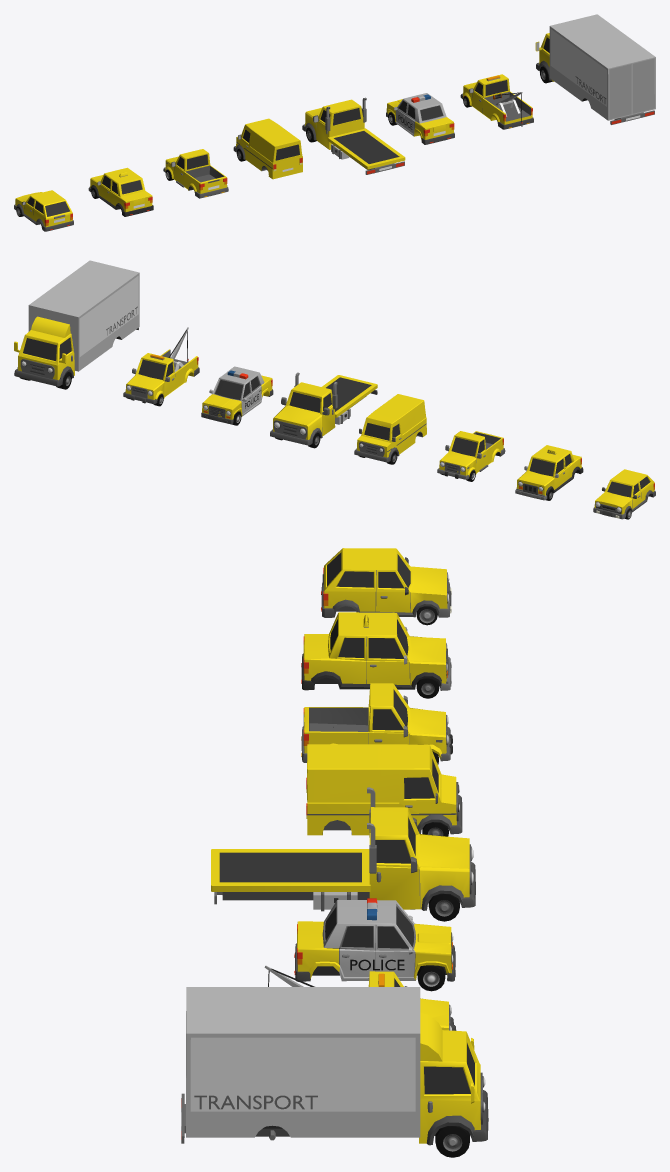
File: Cars.fbx
3 views of the same model, one above another, from view 1: azimuth 30°, elevation 25°; view 2: azimuth 150°, elevation 25°; view 3: azimuth 270°, elevation 25° (orthographic). The views are drawn at different scales.
Parts seen in each view (by area): view 1: VanBig, Truck 1, Van 1, Towtruck 1, Police 1, Car 2, Car 3, Car 1; view 2: VanBig, Truck 1, Van 1, Towtruck 1, Police 1, Car 2, Car 3, Car 1; view 3: VanBig, Truck 1, Van 1, Police 1, Car 2, Car 1, Car 3, Towtruck 1, FR_Wheel.027.
Part boxes in pixels (x1=…): VanBig: x1=535, y1=14, x2=655, y2=124; Truck 1: x1=302, y1=97, x2=405, y2=174; Van 1: x1=233, y1=118, x2=302, y2=179; Towtruck 1: x1=460, y1=74, x2=533, y2=129; Police 1: x1=386, y1=93, x2=454, y2=144; Car 2: x1=88, y1=167, x2=153, y2=216; Car 3: x1=163, y1=149, x2=228, y2=198; Car 1: x1=14, y1=190, x2=73, y2=231; VanBig: x1=14, y1=260, x2=139, y2=386; Truck 1: x1=270, y1=372, x2=377, y2=445; Van 1: x1=354, y1=394, x2=426, y2=462; Towtruck 1: x1=123, y1=327, x2=199, y2=404; Police 1: x1=201, y1=366, x2=273, y2=424; Car 2: x1=515, y1=445, x2=583, y2=500; Car 3: x1=437, y1=431, x2=505, y2=479; Car 1: x1=593, y1=469, x2=655, y2=519; VanBig: x1=181, y1=987, x2=488, y2=1145; Truck 1: x1=211, y1=787, x2=475, y2=911; Van 1: x1=306, y1=744, x2=462, y2=835; Police 1: x1=294, y1=898, x2=455, y2=981; Car 2: x1=301, y1=612, x2=451, y2=690; Car 1: x1=321, y1=548, x2=451, y2=617; Car 3: x1=301, y1=683, x2=452, y2=762; Towtruck 1: x1=264, y1=965, x2=456, y2=1030; FR_Wheel.027: x1=435, y1=1126, x2=469, y2=1157.
Bounding box in the file's own units: 38.79 × 4.07 × 8.9.
